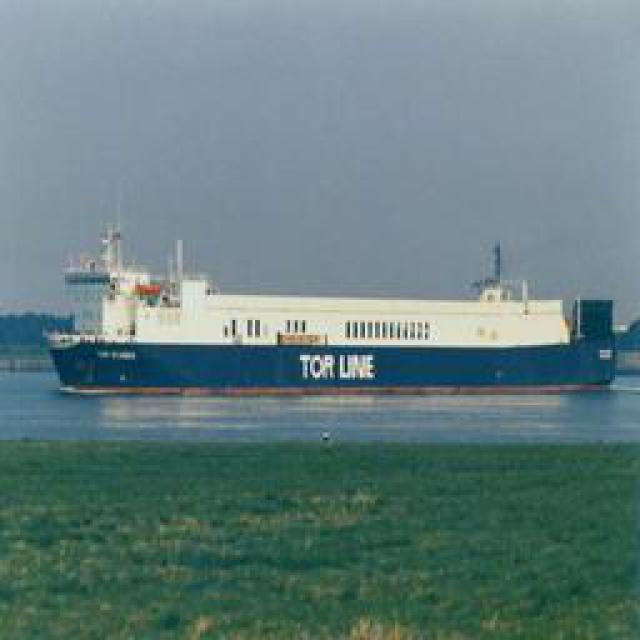Ship: (46, 223, 621, 401)
